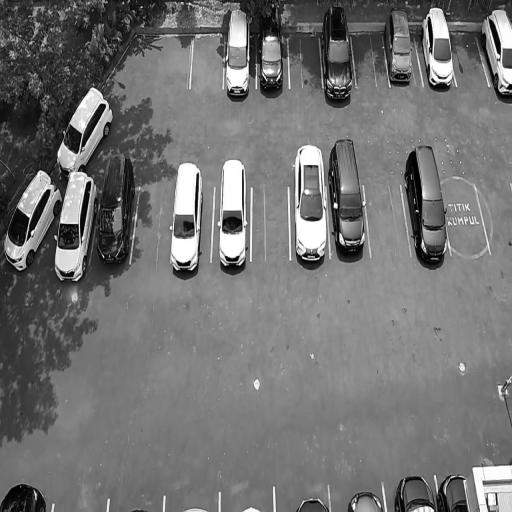Car: (1, 158, 67, 278), (402, 132, 454, 269), (50, 81, 118, 181), (93, 152, 142, 271), (51, 171, 101, 286), (292, 139, 329, 269), (169, 159, 205, 276), (332, 137, 365, 260), (216, 154, 249, 276), (478, 3, 512, 102), (322, 4, 353, 110), (225, 6, 253, 104), (257, 11, 285, 103), (391, 470, 436, 512), (2, 479, 49, 511), (439, 472, 470, 512), (346, 487, 381, 512), (293, 493, 329, 512)
Space Available: (130, 182, 174, 264), (364, 181, 411, 257), (444, 185, 491, 259), (252, 181, 290, 259), (479, 183, 512, 261), (351, 29, 389, 86), (450, 30, 490, 84), (190, 30, 224, 89), (289, 30, 323, 86)
